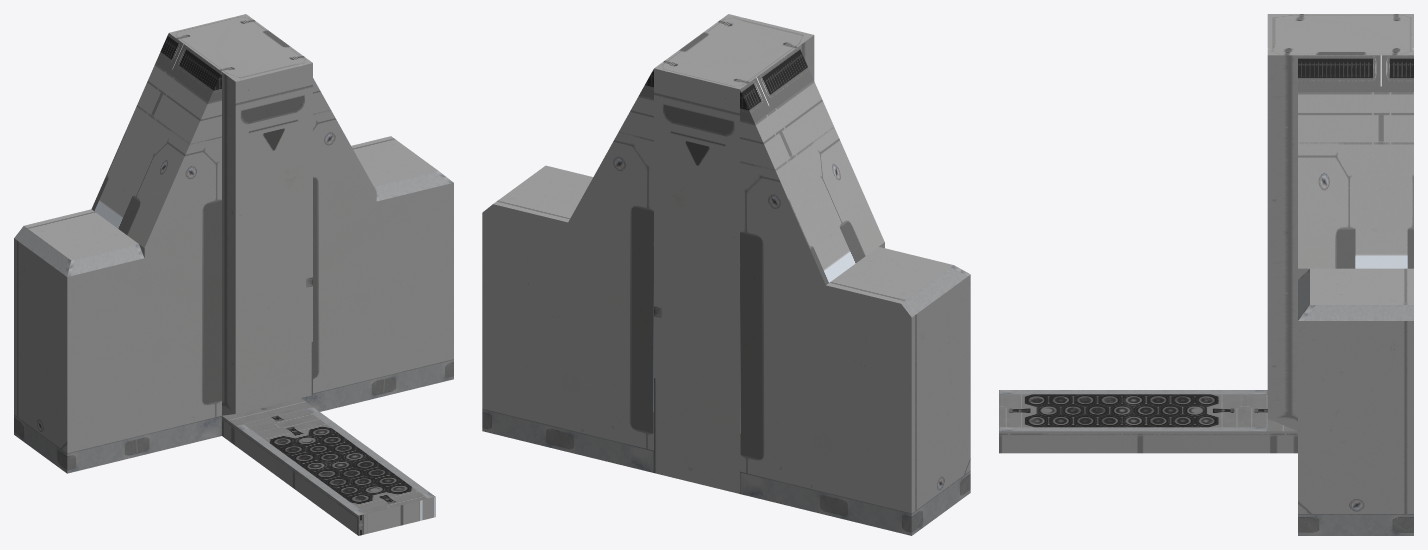
The model's file is SM_ModuGate3_L0a.fbx.
3 views of the same model, side by side, from view 1: azimuth 30°, elevation 25°; view 2: azimuth 150°, elevation 25°; view 3: azimuth 270°, elevation 25° (orthographic). The views are drawn at different scales.
Parts seen in each view (by area): view 1: SM_ModuGate3_L0a_LOD0; view 2: SM_ModuGate3_L0a_LOD0; view 3: SM_ModuGate3_L0a_LOD0.
Part boxes in pixels (x1,y1,x2,y2): SM_ModuGate3_L0a_LOD0: (14, 14, 453, 535); SM_ModuGate3_L0a_LOD0: (482, 14, 970, 535); SM_ModuGate3_L0a_LOD0: (999, 14, 1413, 535).
Bounding box in the file's own units: 200 × 170 × 180.
Materials: 3 (3 with a texture image).
